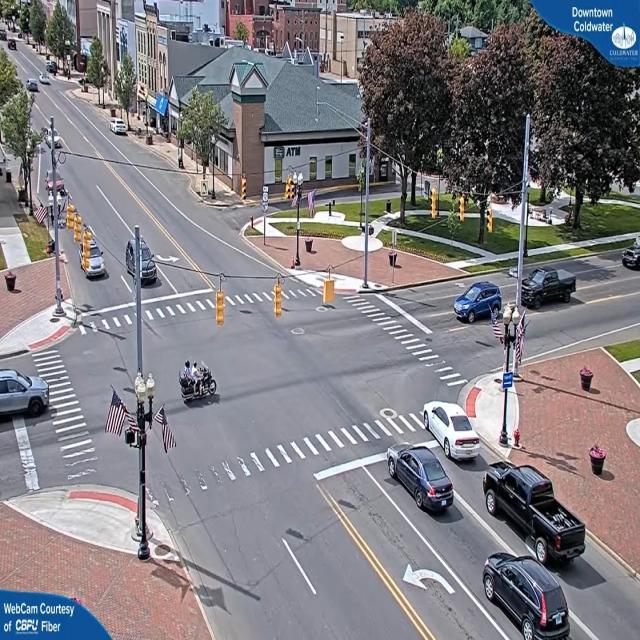car: (483, 462, 587, 569), (482, 553, 571, 640), (391, 452, 452, 517), (424, 402, 482, 462), (0, 365, 49, 421), (521, 269, 576, 310), (454, 284, 501, 324), (622, 247, 640, 270)
motorbike: (176, 357, 218, 407)
